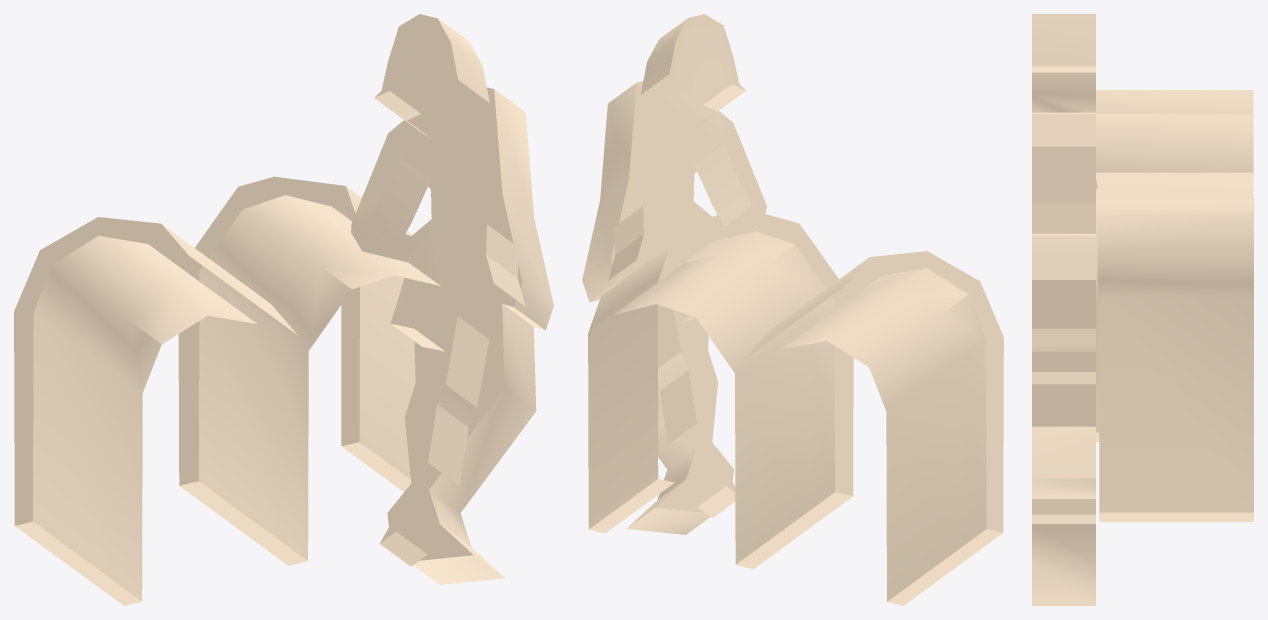
The model's file is ps2_save-icons_germanysnexttopmodel.glb.
3 renders of one model, left to right at view 1: azimuth 30°, elevation 25°; view 2: azimuth 150°, elevation 25°; view 3: azimuth 270°, elevation 25°, orthographic. The views are drawn at different scales.
Parts seen in each view (by area): view 1: Game.ico; view 2: Game.ico; view 3: Game.ico.
Part boxes in pixels (bbox=[...]): Game.ico: bbox=[14, 14, 553, 605]; Game.ico: bbox=[582, 14, 1003, 605]; Game.ico: bbox=[1032, 14, 1253, 605].
Bounding box in the file's own units: 2.93 × 3.61 × 1.29.
1 material, 1 textured.
